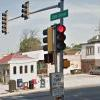Traffic light: (36, 19, 70, 67)
